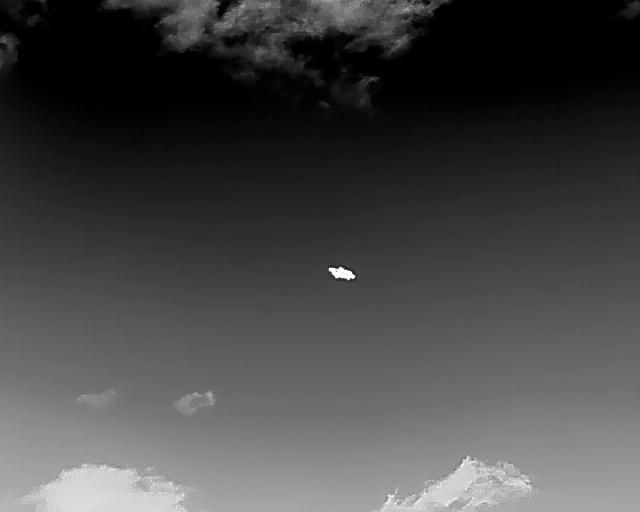fpv-drone: (327, 266, 356, 281)
